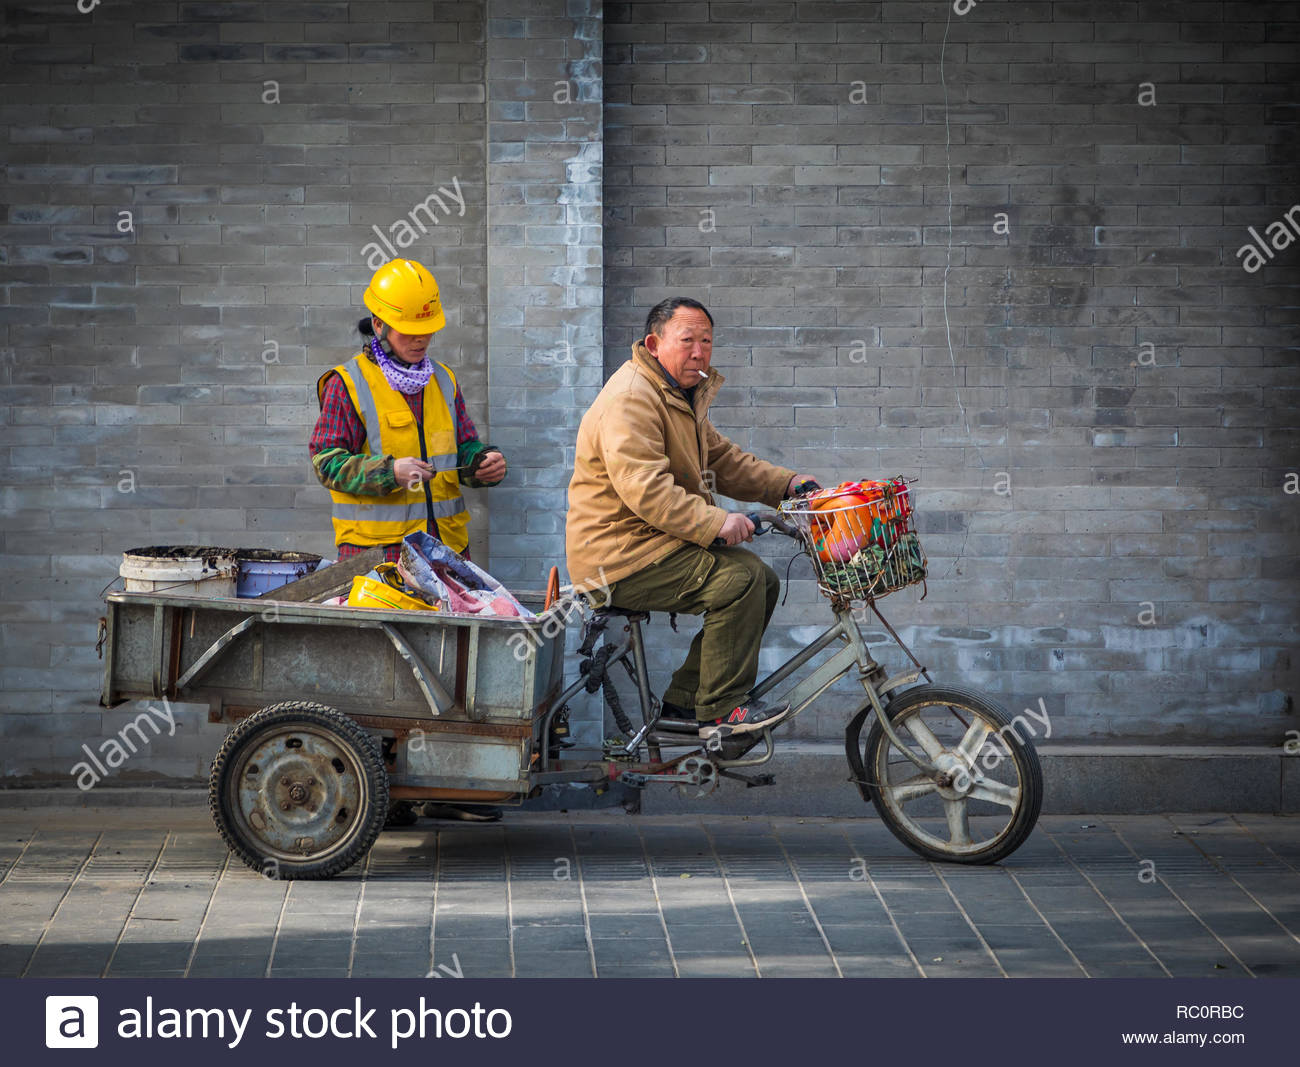handle bar: (713, 477, 863, 603)
wheel: (203, 698, 398, 890), (858, 683, 1050, 875)
